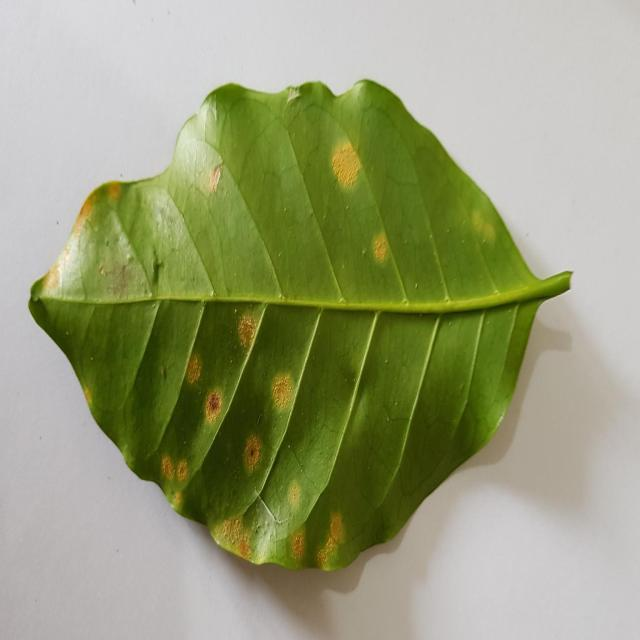rust: (306, 495, 361, 573), (185, 351, 223, 424), (219, 545, 263, 591), (156, 449, 190, 507), (332, 135, 366, 191), (238, 305, 266, 364), (270, 356, 294, 411), (369, 229, 396, 274), (326, 561, 363, 593), (243, 433, 263, 475), (292, 533, 309, 569), (287, 471, 302, 508)
